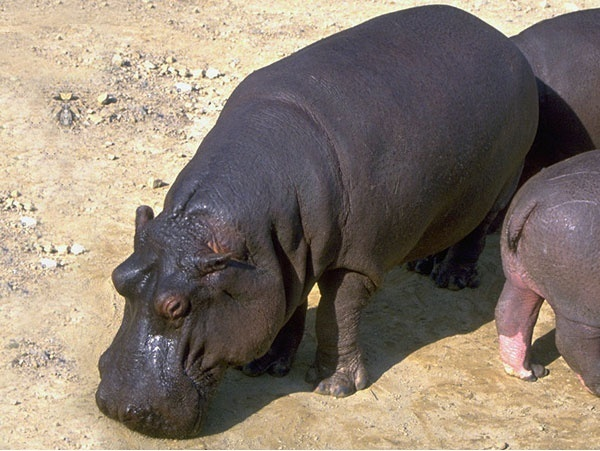hipopotamo: (75, 3, 547, 444)
